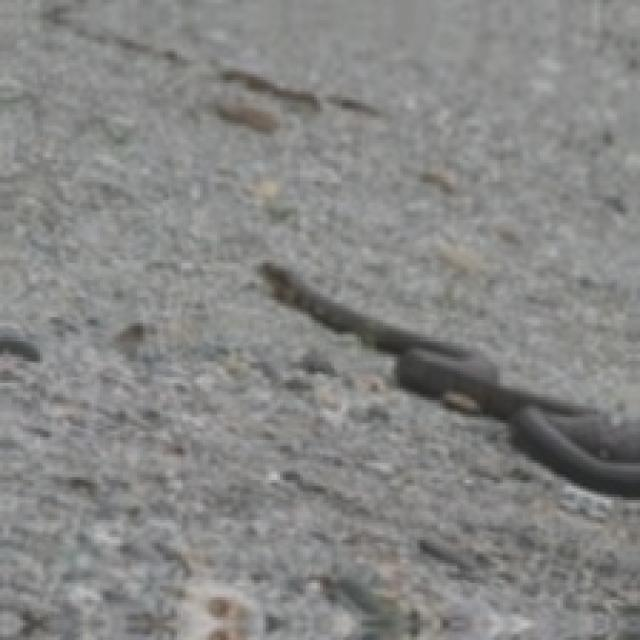king cobra: (260, 263, 637, 494)
